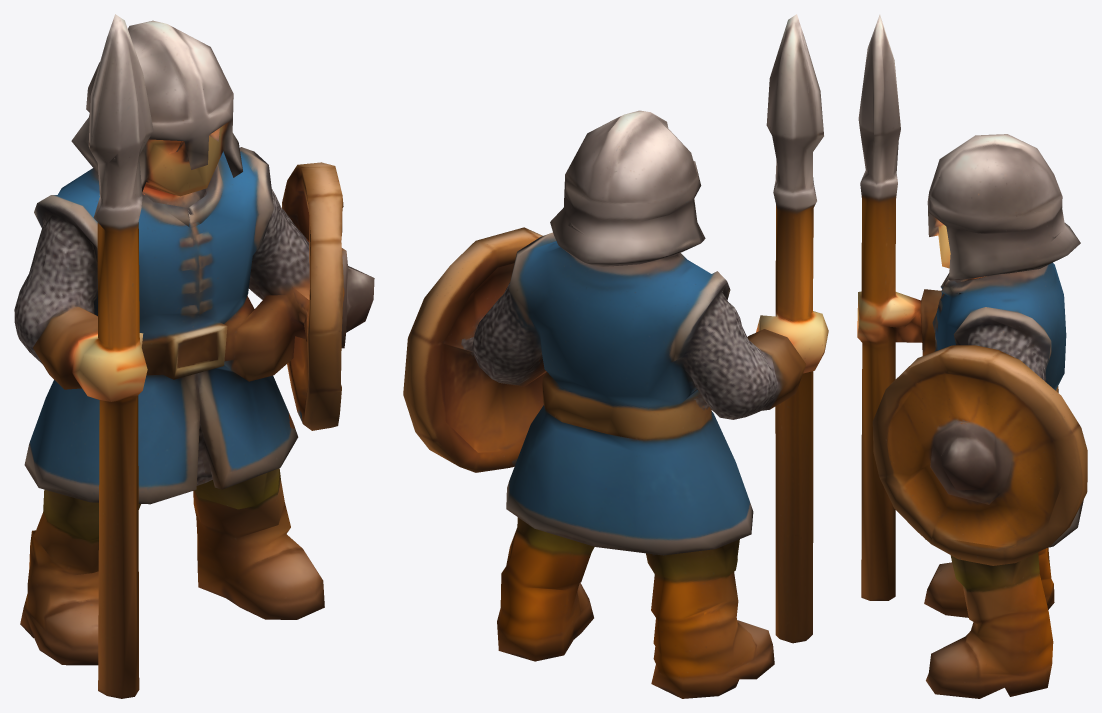
Rendered from spearman.glb.
3 views of the same model, side by side, from view 1: azimuth 30°, elevation 25°; view 2: azimuth 150°, elevation 25°; view 3: azimuth 270°, elevation 25° (orthographic). The views are drawn at different scales.
Visible parts, largest first — view 1: geometry_0.001; view 2: geometry_0.001; view 3: geometry_0.001.
Boxes of the visible parts, x1,y1,x2,y2 form: geometry_0.001: [14, 14, 374, 698]; geometry_0.001: [403, 14, 828, 698]; geometry_0.001: [857, 14, 1087, 698].
Bounding box in the file's own units: 1.07 × 1.99 × 0.7175.
1 material, 1 textured.
